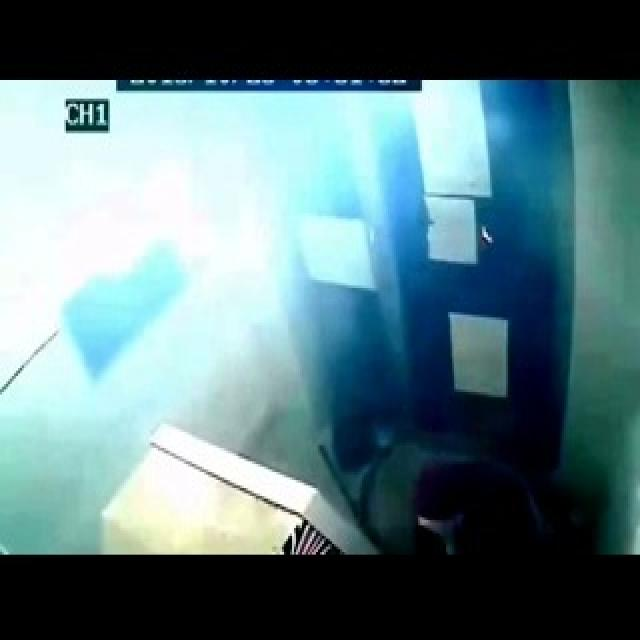thief: (407, 455, 531, 550)
